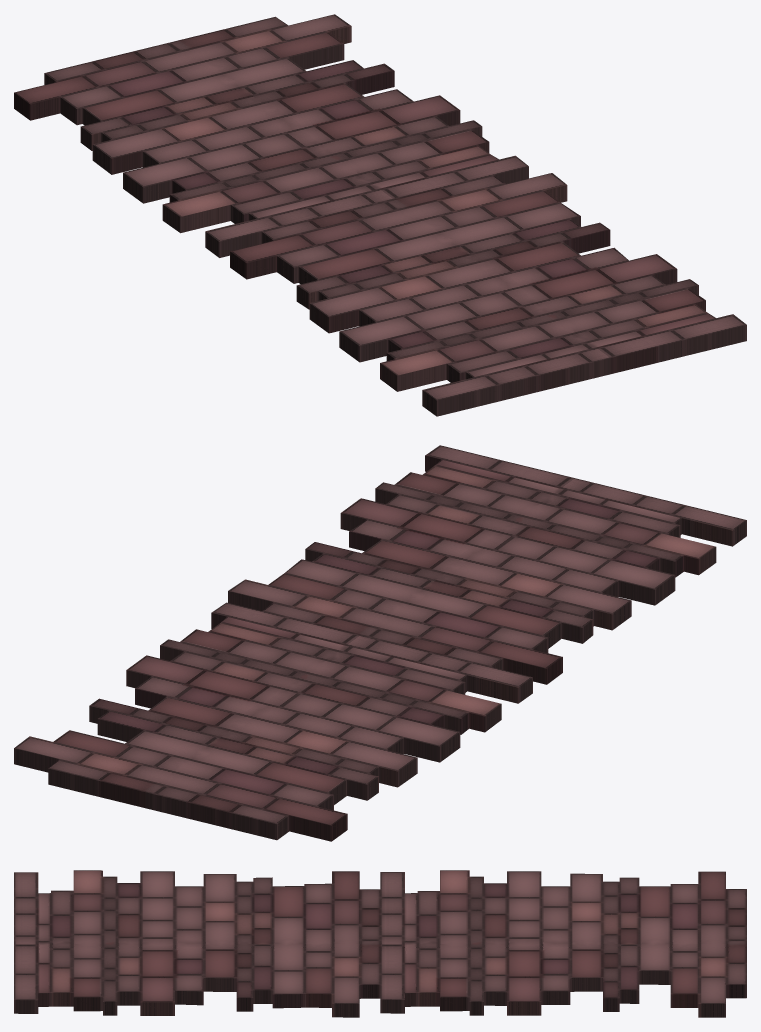
File: Road.fbx
3 views of the same model, one above another, from view 1: azimuth 30°, elevation 25°; view 2: azimuth 150°, elevation 25°; view 3: azimuth 270°, elevation 25° (orthographic). The views are drawn at different scales.
Visible parts, largest first — view 1: Road; view 2: Road; view 3: Road.
Boxes of the visible parts, <box> form: Road: <box>14,14,746,416</box>; Road: <box>14,445,746,841</box>; Road: <box>14,870,746,1017</box>.
Bounding box in the file's own units: 1.68 × 0.08 × 3.88.
